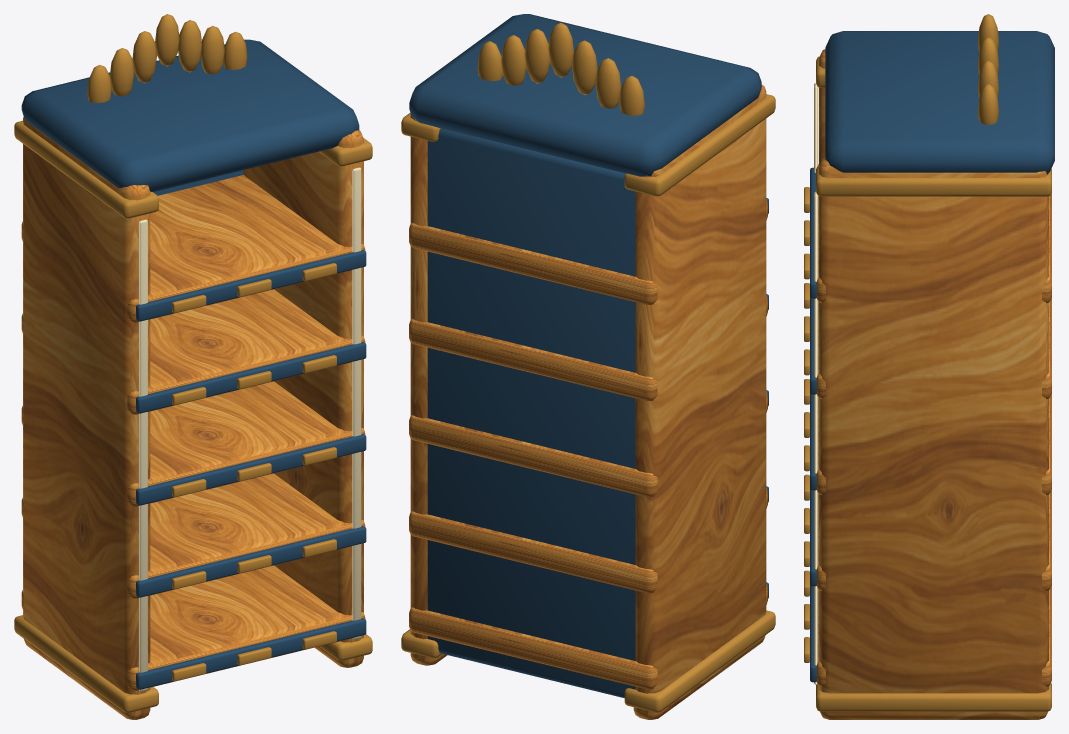
The model's file is royal.glb.
3 views of the same model, side by side, from view 1: azimuth 30°, elevation 25°; view 2: azimuth 150°, elevation 25°; view 3: azimuth 270°, elevation 25° (orthographic). The views are drawn at different scales.
Parts seen in each view (by area): view 1: royal; view 2: royal; view 3: royal.
Boxes of the visible parts, x1=… form: royal: x1=14, y1=14, x2=372, y2=719; royal: x1=401, y1=14, x2=775, y2=719; royal: x1=804, y1=14, x2=1054, y2=719.
Bounding box in the file's own units: 0.99 × 2.37 × 0.83.
Materials: 4 (1 with a texture image).
